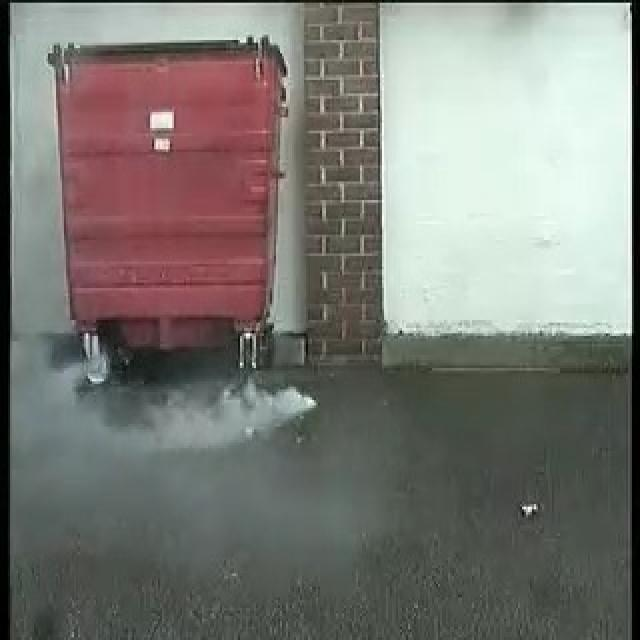Smoke: (41, 378, 316, 456)
